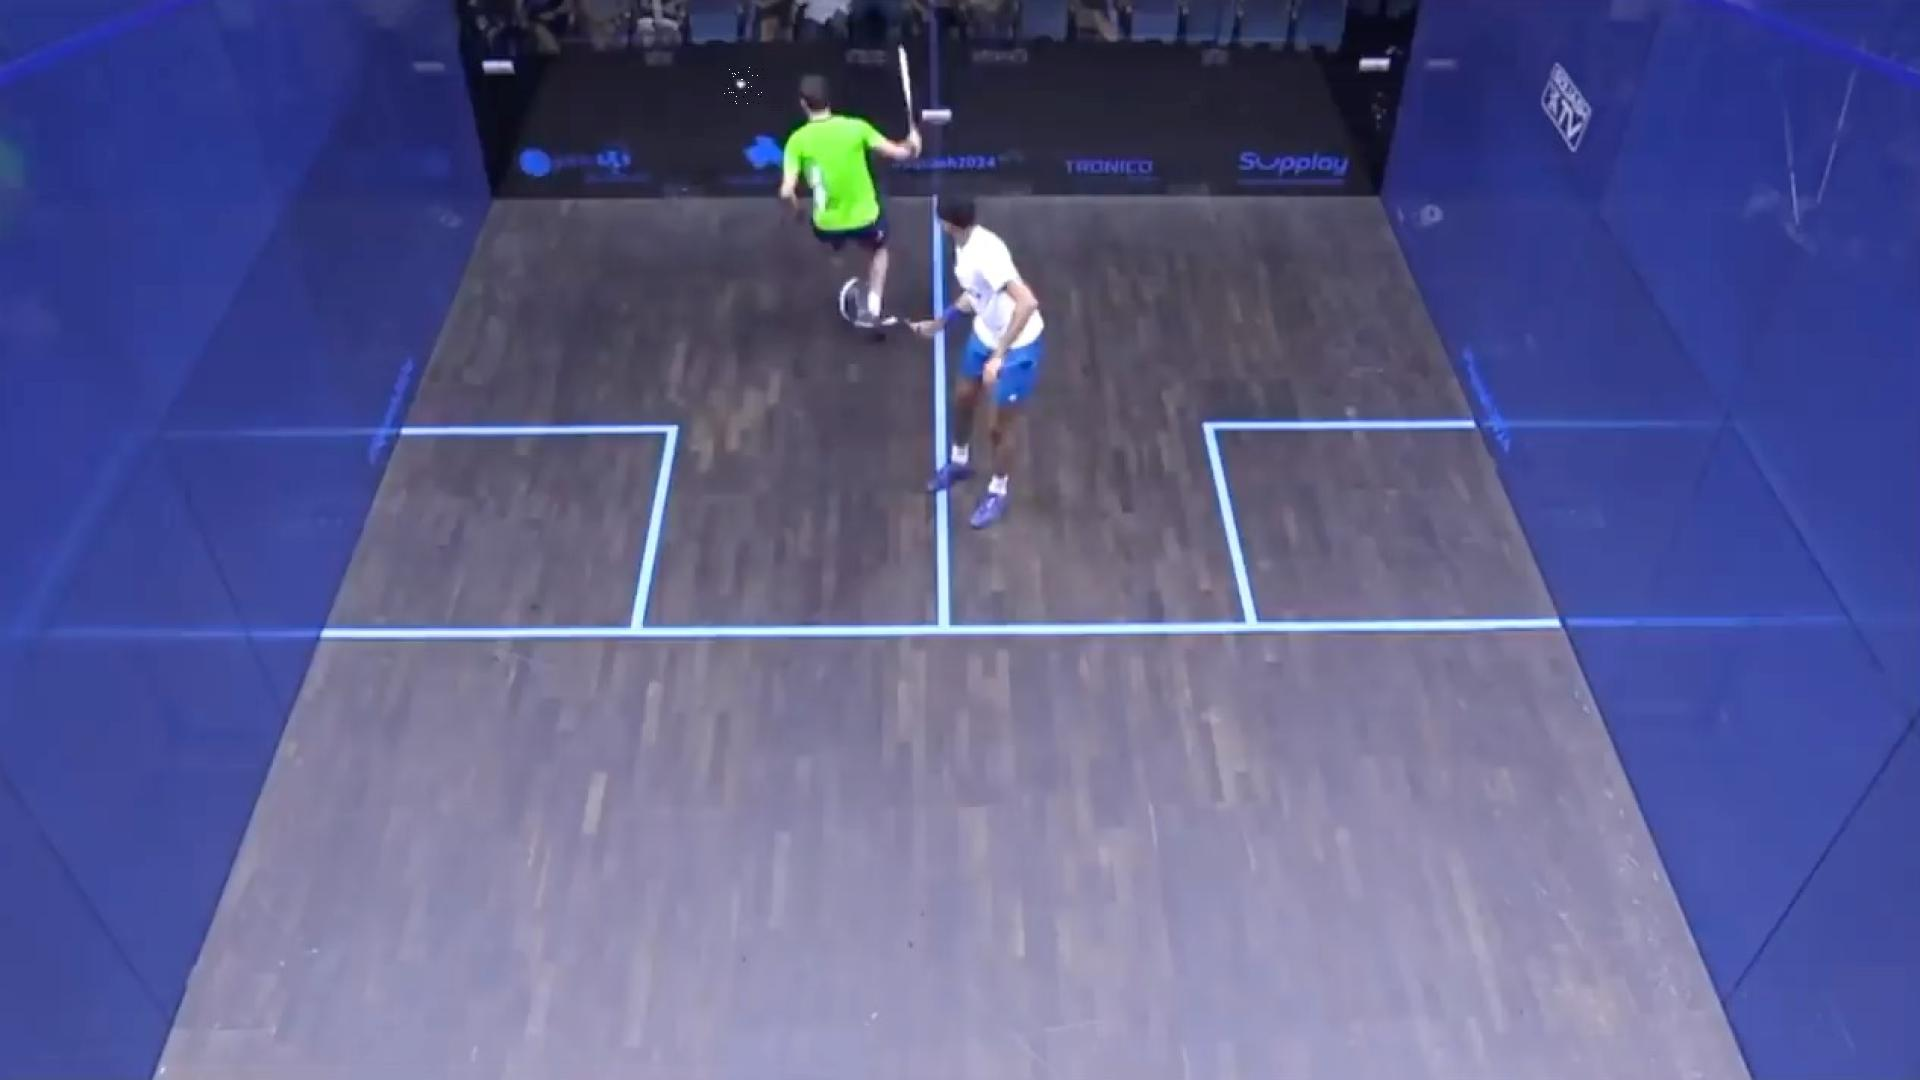Squash-Ball: (721, 67, 766, 105)
